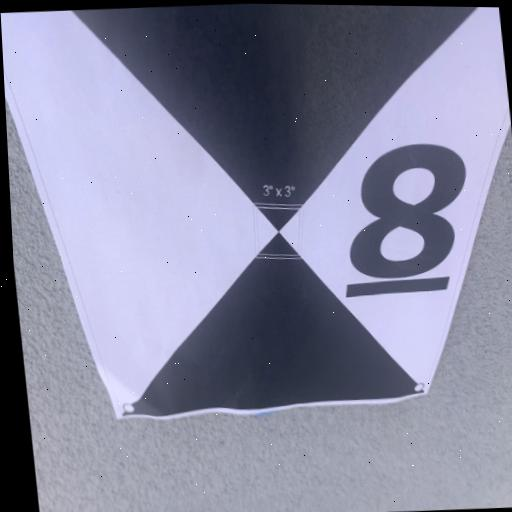target8: (1, 4, 511, 421)
